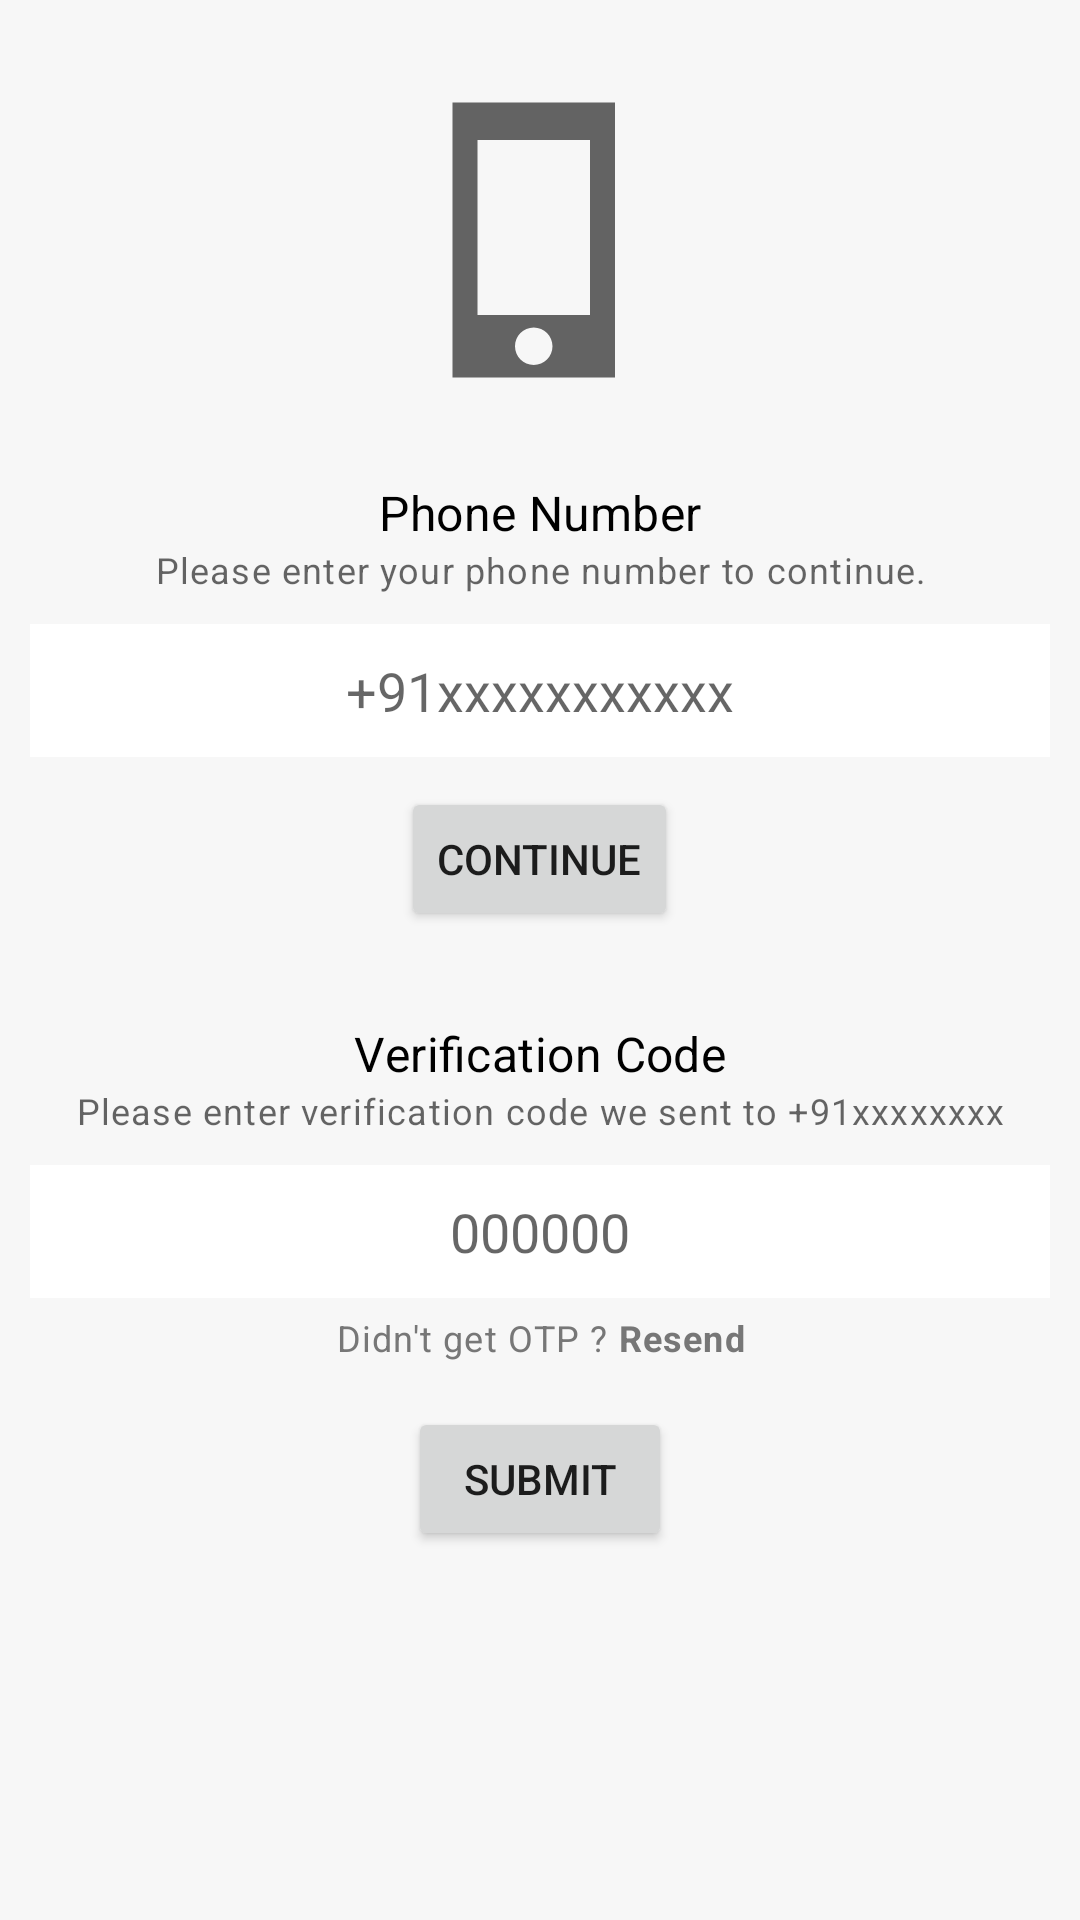

Where to tap for icons on this 1080w x 1920h app screen, as point (x, y):
phone iphone: point (533, 240)
